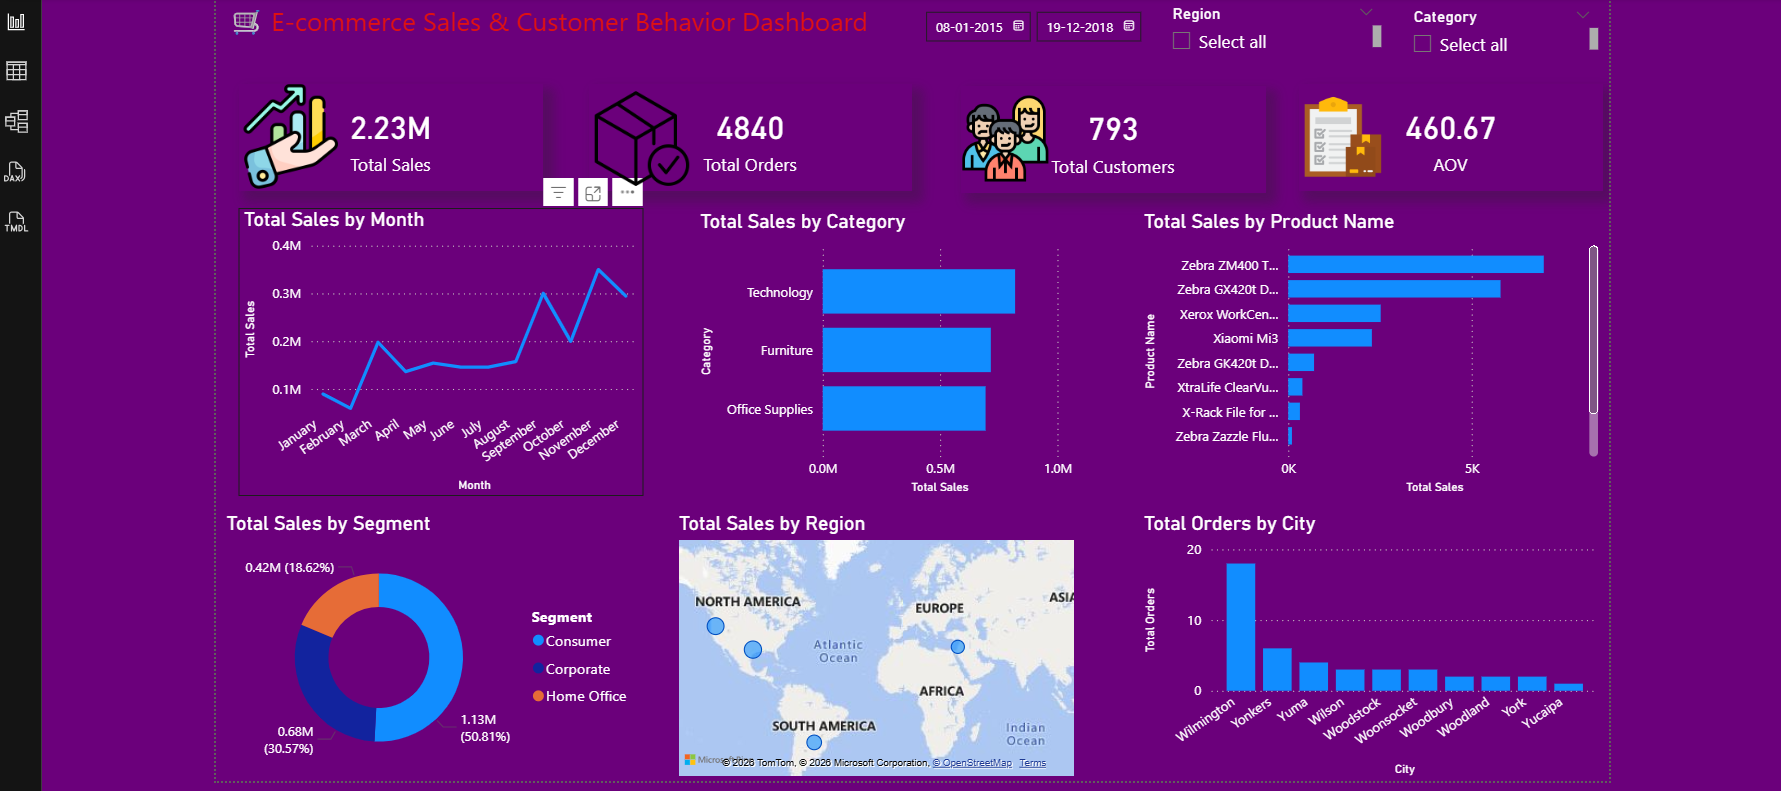

What the dashboard file says about the page in this screenshot:
{"tool":"powerbi","page":{"name":"E-commerce Sales & Customer Behavior Dashboard","canvas":[1280,720],"ordinal":0},"visuals":[{"type":"card","fields":{"Values":["train (2).Total Sales"]},"box":[21.2,78.8,280,98.8],"z":0},{"type":"card","fields":{"Values":["train (2).Total Orders"]},"box":[342.5,78.8,297.5,98.8],"z":1000},{"type":"card","fields":{"Values":["train (2).Total Customers"]},"box":[685,80,280,98.8],"z":2000},{"type":"card","fields":{"Values":["train (2).AOV"]},"box":[995,78.8,280,98.8],"z":3000},{"type":"textbox","box":[5,0,601.2,56.2],"z":4000},{"type":"lineChart","fields":{"Category":["train (2).Order Date.Variation.Date Hierarchy.Month"],"Y":["train (2).Total Sales"]},"box":[21.2,192.5,371.2,266.2],"z":5000},{"type":"image","box":[21.2,78.8,96.2,96.2],"z":6000},{"type":"image","box":[343.8,80,96.2,97.5],"z":7000},{"type":"image","box":[685,80,81.2,97.5],"z":8000},{"type":"image","box":[995,78.8,81.2,97.5],"z":9000},{"type":"barChart","fields":{"Category":["train (2).Category"],"Y":["train (2).Total Sales"]},"box":[440,193.8,352.5,266.2],"z":10000},{"type":"barChart","fields":{"Category":["train (2).Product Name"],"Y":["train (2).Total Sales"]},"box":[847.5,193.8,427.5,266.2],"z":11000},{"type":"donutChart","fields":{"Category":["train (2).Segment"],"Y":["train (2).Total Sales"]},"box":[5,472.5,387.5,247.5],"z":12000},{"type":"map","fields":{"Category":["train (2).Region"],"Size":["train (2).Total Sales"]},"box":[420,472.5,372.5,247.5],"z":13000},{"type":"clusteredColumnChart","fields":{"Category":["train (2).City"],"Y":["train (2).Total Orders"]},"box":[847.5,472.5,427.5,247.5],"z":14000},{"type":"slicer","fields":{"Values":["train (2).Order Date"]},"box":[640,2.5,226.2,56.2],"z":15000},{"type":"slicer","fields":{"Values":["train (2).Region"]},"box":[866.2,1.2,210,56.2],"z":16000},{"type":"slicer","fields":{"Values":["train (2).Category"]},"box":[1087.5,3.8,187.5,56.2],"z":17000}]}

Visuals, with their boxes on the page's 1280x720 design canvas (x1, y1, x2, y2). These are canvas units, not pixel positions in the 1781x791 screenshot, which may show the page scaled, cropped or inside an application window:
card - train (2).Total Sales: 21,79,301,178
card - train (2).Total Orders: 342,79,640,178
card - train (2).Total Customers: 685,80,965,179
card - train (2).AOV: 995,79,1275,178
textbox: 5,0,606,56
lineChart - train (2).Order Date.Variation.Date Hierarchy.Month x train (2).Total Sales: 21,192,392,459
image: 21,79,117,175
image: 344,80,440,178
image: 685,80,766,178
image: 995,79,1076,176
barChart - train (2).Category x train (2).Total Sales: 440,194,792,460
barChart - train (2).Product Name x train (2).Total Sales: 848,194,1275,460
donutChart - train (2).Segment x train (2).Total Sales: 5,472,392,720
map - train (2).Region x train (2).Total Sales: 420,472,792,720
clusteredColumnChart - train (2).City x train (2).Total Orders: 848,472,1275,720
slicer - train (2).Order Date: 640,2,866,59
slicer - train (2).Region: 866,1,1076,57
slicer - train (2).Category: 1088,4,1275,60
